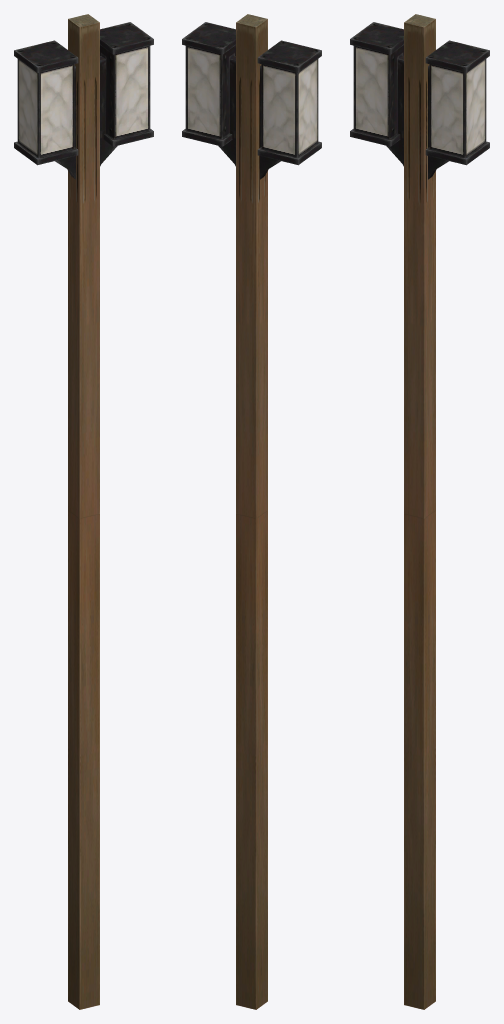
The model's file is mun_all_imprv_streetlamp_lg_s02_l0.fbx.
The picture shows the model from 3 angles, left to right: view 1: azimuth 30°, elevation 25°; view 2: azimuth 150°, elevation 25°; view 3: azimuth 330°, elevation 25°; orthographic projection.
Visible parts, largest first — view 1: mesh_node; view 2: mesh_node; view 3: mesh_node.
Boxes of the visible parts, left/top/right/bottom form: mesh_node: left=14, top=14, right=153, bottom=1009; mesh_node: left=182, top=14, right=321, bottom=1009; mesh_node: left=350, top=14, right=489, bottom=1009.
Size of the model in its own units: 0.501 by 4.04 by 0.1753.
